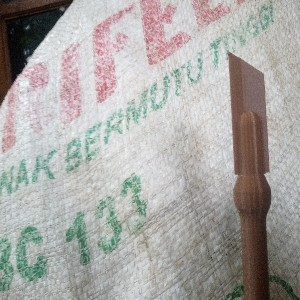cutter: (226, 48, 273, 300)
